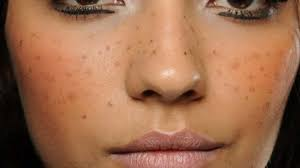Flek Hitam: (73, 31, 289, 115)
